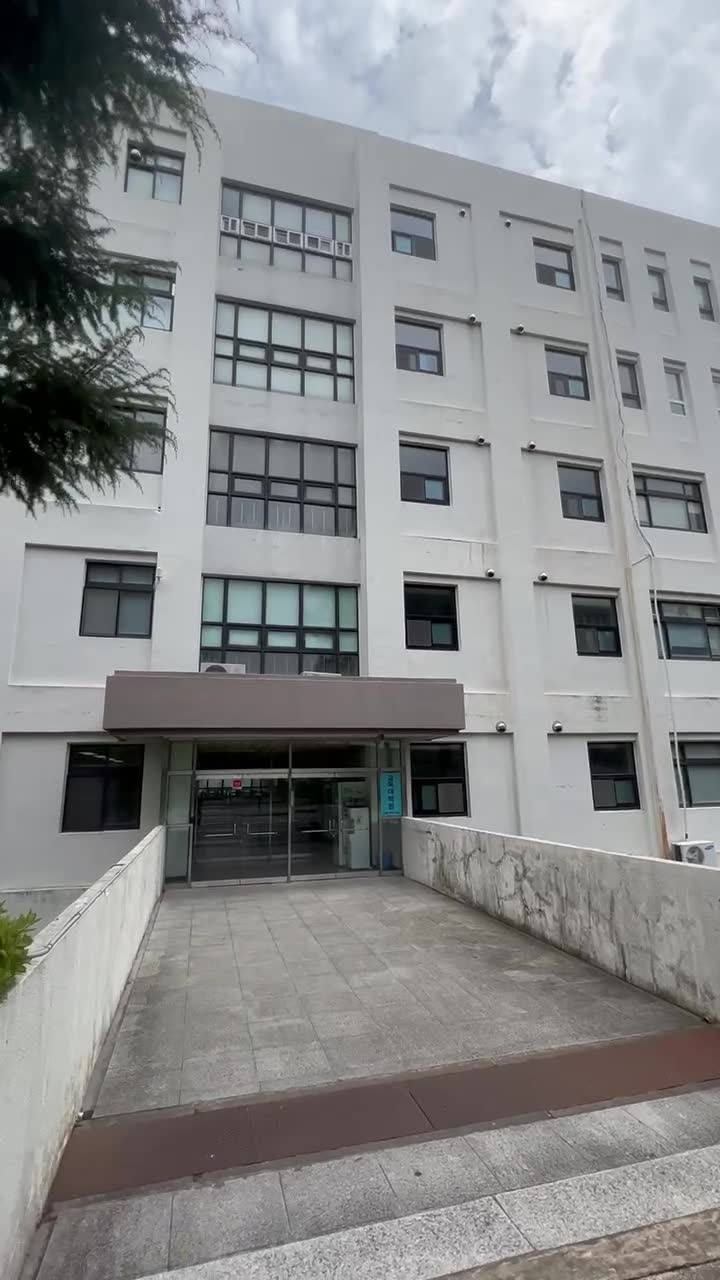medium: (114, 122, 720, 880)
